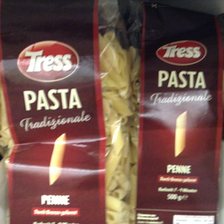pasta: (1, 2, 131, 224), (129, 3, 223, 224)
